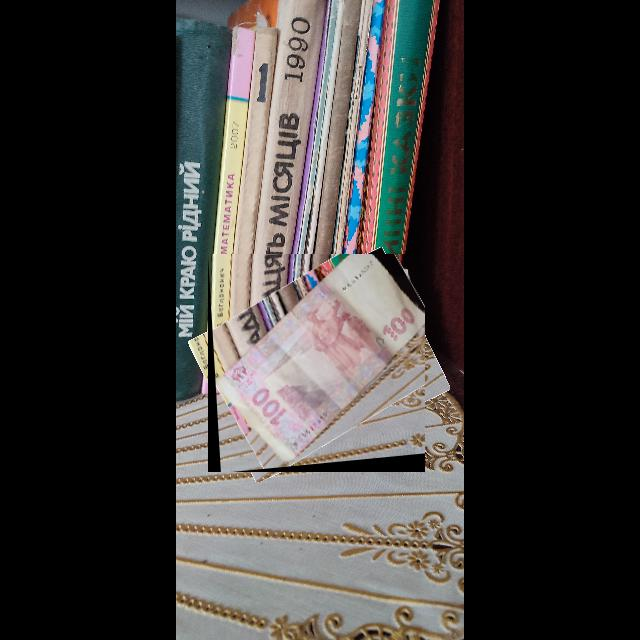100uah: (214, 254, 426, 469)
